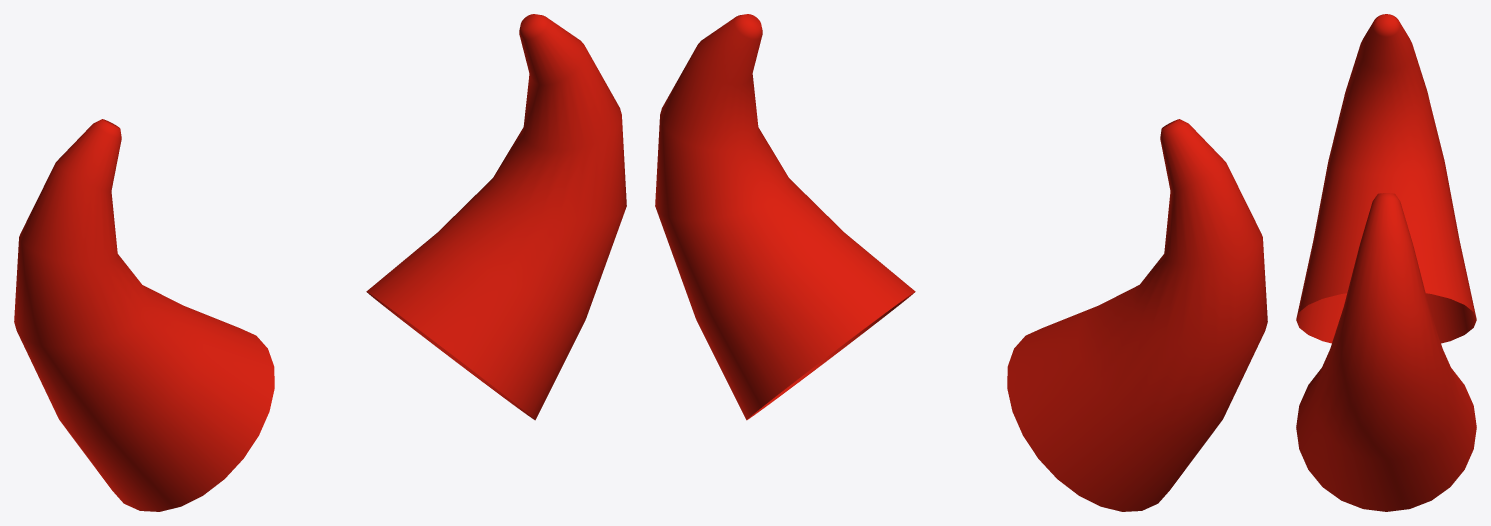
Rendered from unholyDevilHorns.fbx.
3 views of the same model, side by side, from view 1: azimuth 30°, elevation 25°; view 2: azimuth 150°, elevation 25°; view 3: azimuth 270°, elevation 25° (orthographic). The views are drawn at different scales.
Visible parts, largest first — view 1: Unholy Devil Horns; view 2: Unholy Devil Horns; view 3: Unholy Devil Horns.
Part boxes in pixels (x1,y1,x2,y2): Unholy Devil Horns: (14, 14, 626, 511); Unholy Devil Horns: (655, 14, 1267, 511); Unholy Devil Horns: (1296, 14, 1476, 511).
Size of the model in its own units: 99.76 by 31.15 by 62.24.
